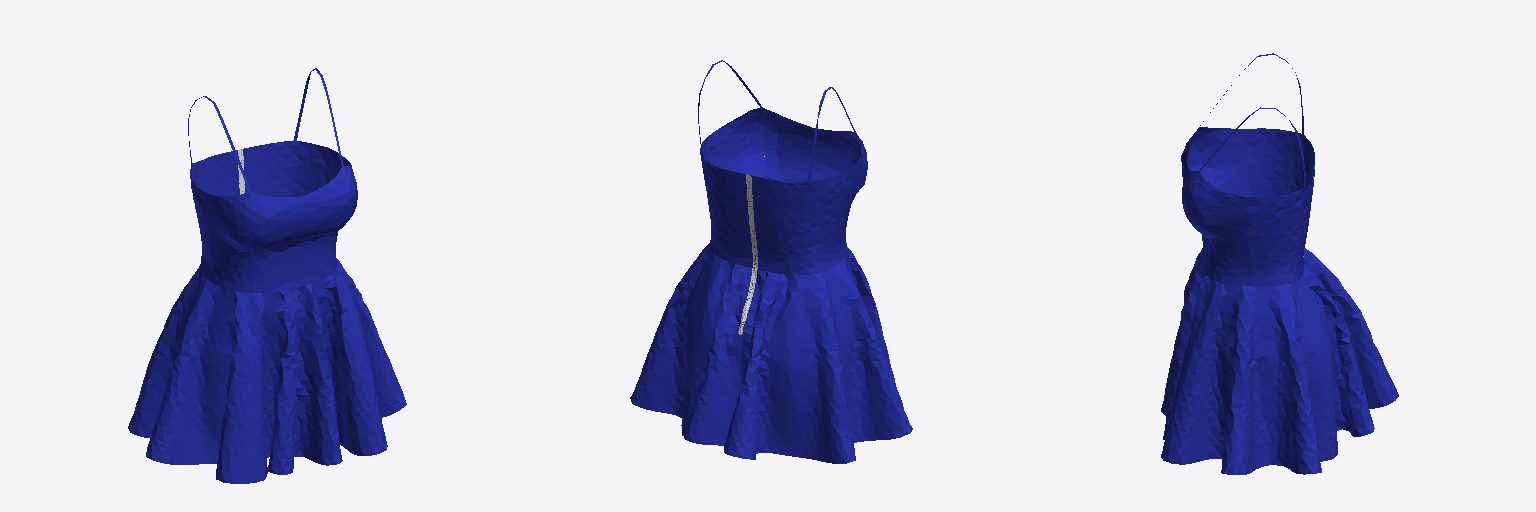
3 views of the same model, side by side, from view 1: azimuth 30°, elevation 25°; view 2: azimuth 150°, elevation 25°; view 3: azimuth 270°, elevation 25° (orthographic).
Visible parts, largest first — view 1: small_blueDress:polySurface1; view 2: small_blueDress:polySurface1; view 3: small_blueDress:polySurface1.
Boxes of the visible parts, x1=… form: small_blueDress:polySurface1: x1=128, y1=68, x2=406, y2=483; small_blueDress:polySurface1: x1=630, y1=60, x2=912, y2=463; small_blueDress:polySurface1: x1=1161, y1=53, x2=1398, y2=474.
Size of the model in its own units: 513 by 682 by 420.
Materials: 14 (3 with a texture image).